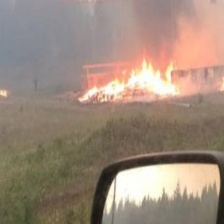fire: (78, 58, 181, 103)
smoke: (115, 1, 224, 63)
